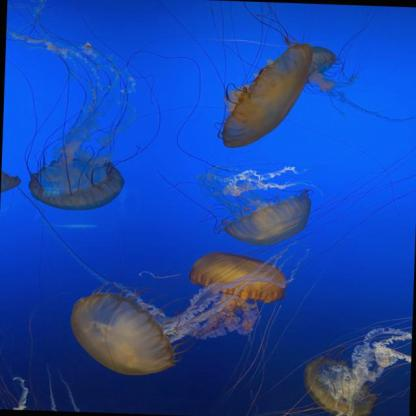jellyfish: (221, 38, 313, 150), (69, 290, 179, 378), (27, 154, 126, 210), (188, 250, 287, 302), (221, 192, 314, 245), (300, 354, 378, 416), (282, 43, 342, 78), (0, 169, 20, 195)
